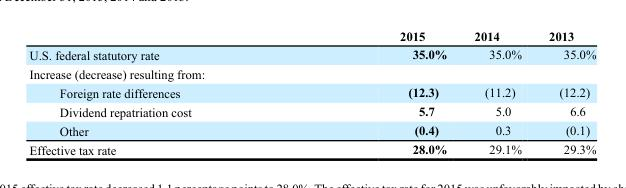table: (28, 29, 595, 156)
table column: (28, 29, 294, 156), (294, 29, 460, 156), (460, 29, 534, 156), (534, 29, 595, 156)
table column header: (28, 29, 595, 44)
table projected row header: (28, 64, 595, 82)
table row: (28, 44, 595, 64), (28, 82, 595, 101), (28, 101, 595, 120), (28, 120, 595, 139), (28, 64, 595, 82), (28, 139, 595, 156), (28, 29, 595, 44)
